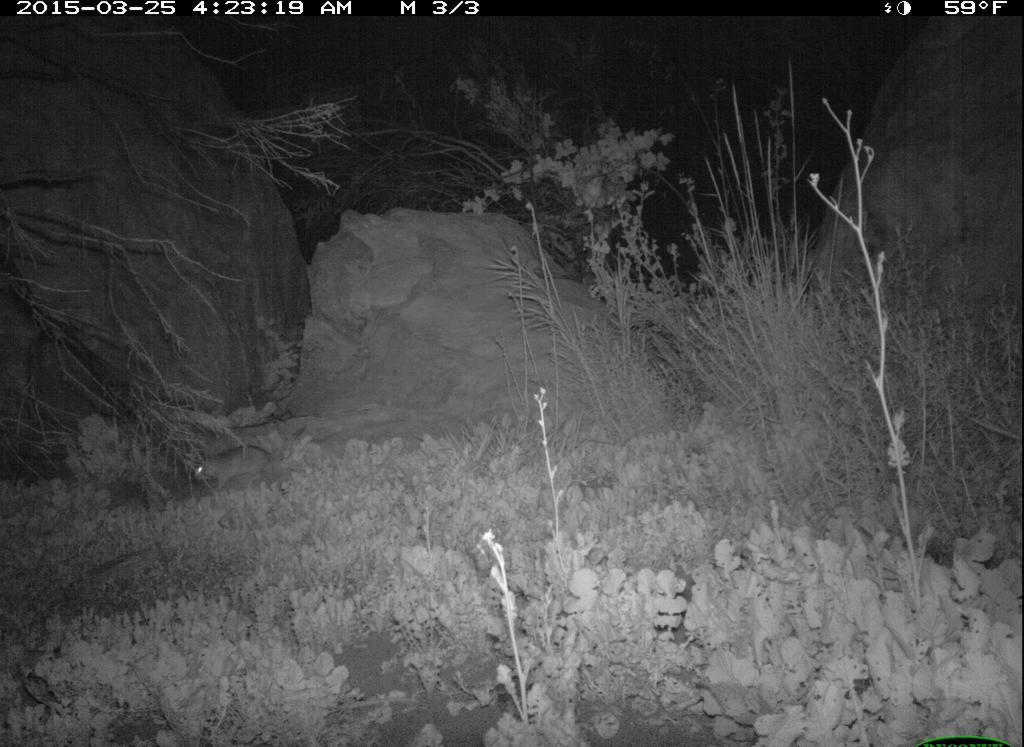rodent: (190, 447, 281, 495)
